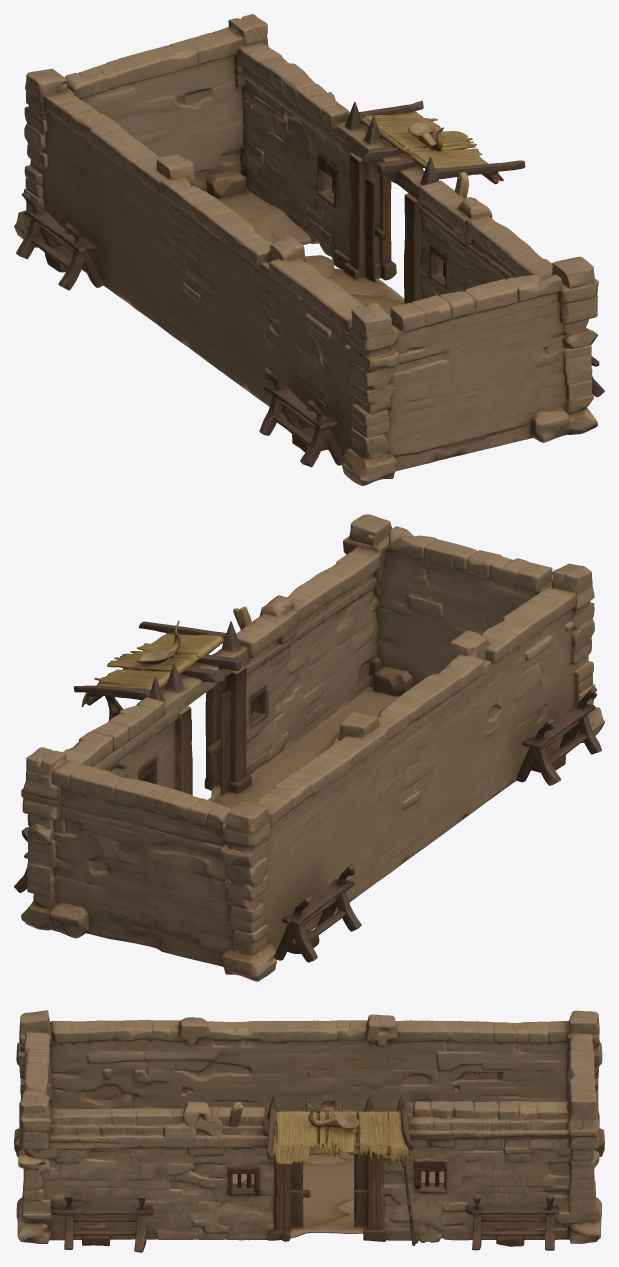
The model's file is ثكنة_الجنود.glb.
3 renders of one model, top to bottom at view 1: azimuth 30°, elevation 25°; view 2: azimuth 150°, elevation 25°; view 3: azimuth 270°, elevation 25°, orthographic. The views are drawn at different scales.
Parts seen in each view (by area): view 1: tripo_node_318cda4c-aad4-4f30-b006-d48a28c539bd; view 2: tripo_node_318cda4c-aad4-4f30-b006-d48a28c539bd; view 3: tripo_node_318cda4c-aad4-4f30-b006-d48a28c539bd.
Part boxes in pixels (left/top/right/bottom): tripo_node_318cda4c-aad4-4f30-b006-d48a28c539bd: left=14, top=14, right=604, bottom=485; tripo_node_318cda4c-aad4-4f30-b006-d48a28c539bd: left=14, top=514, right=604, bottom=981; tripo_node_318cda4c-aad4-4f30-b006-d48a28c539bd: left=14, top=1010, right=604, bottom=1252.
Size of the model in its own units: 3.04 by 1.5 by 5.37.
1 material, 1 textured.
